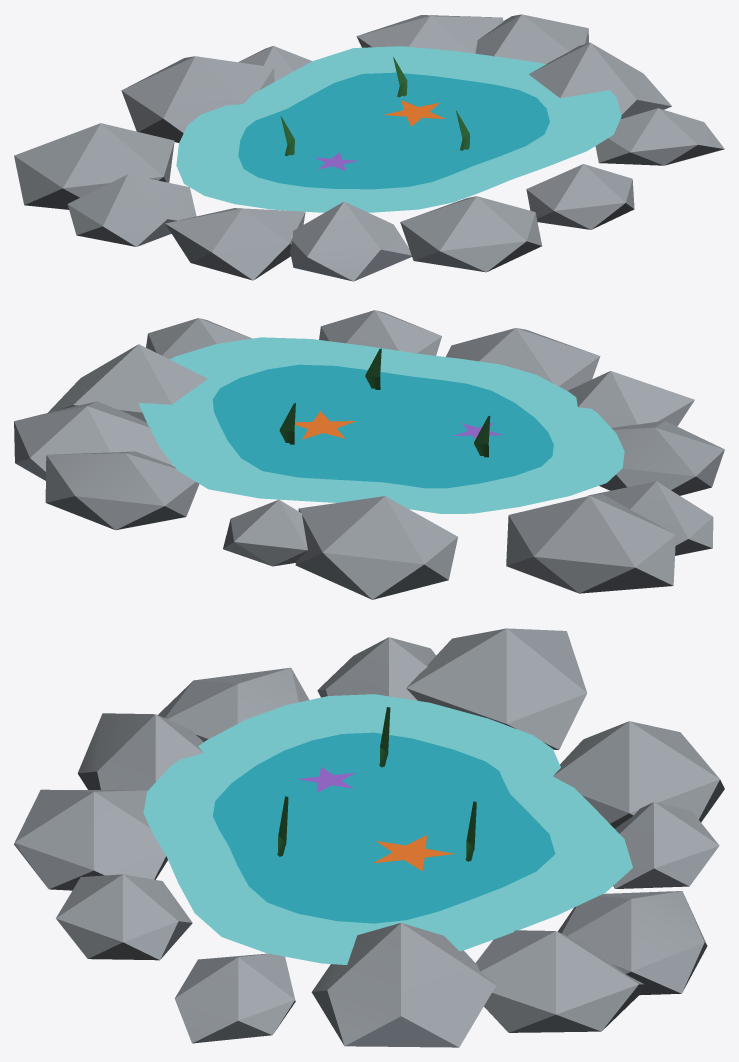
Rendered from Charca.fbx.
3 views of the same model, one above another, from view 1: azimuth 30°, elevation 25°; view 2: azimuth 150°, elevation 25°; view 3: azimuth 270°, elevation 25° (orthographic). The views are drawn at different scales.
Parts seen in each view (by area): view 1: Charca; view 2: Charca; view 3: Charca.
Boxes of the visible parts, x1,y1,x2,y2 form: Charca: (14,14,724,281); Charca: (14,310,724,599); Charca: (14,628,724,1047).
Bounding box in the file's own units: 10.03 × 1.15 × 7.84.
1 material, 1 textured.
